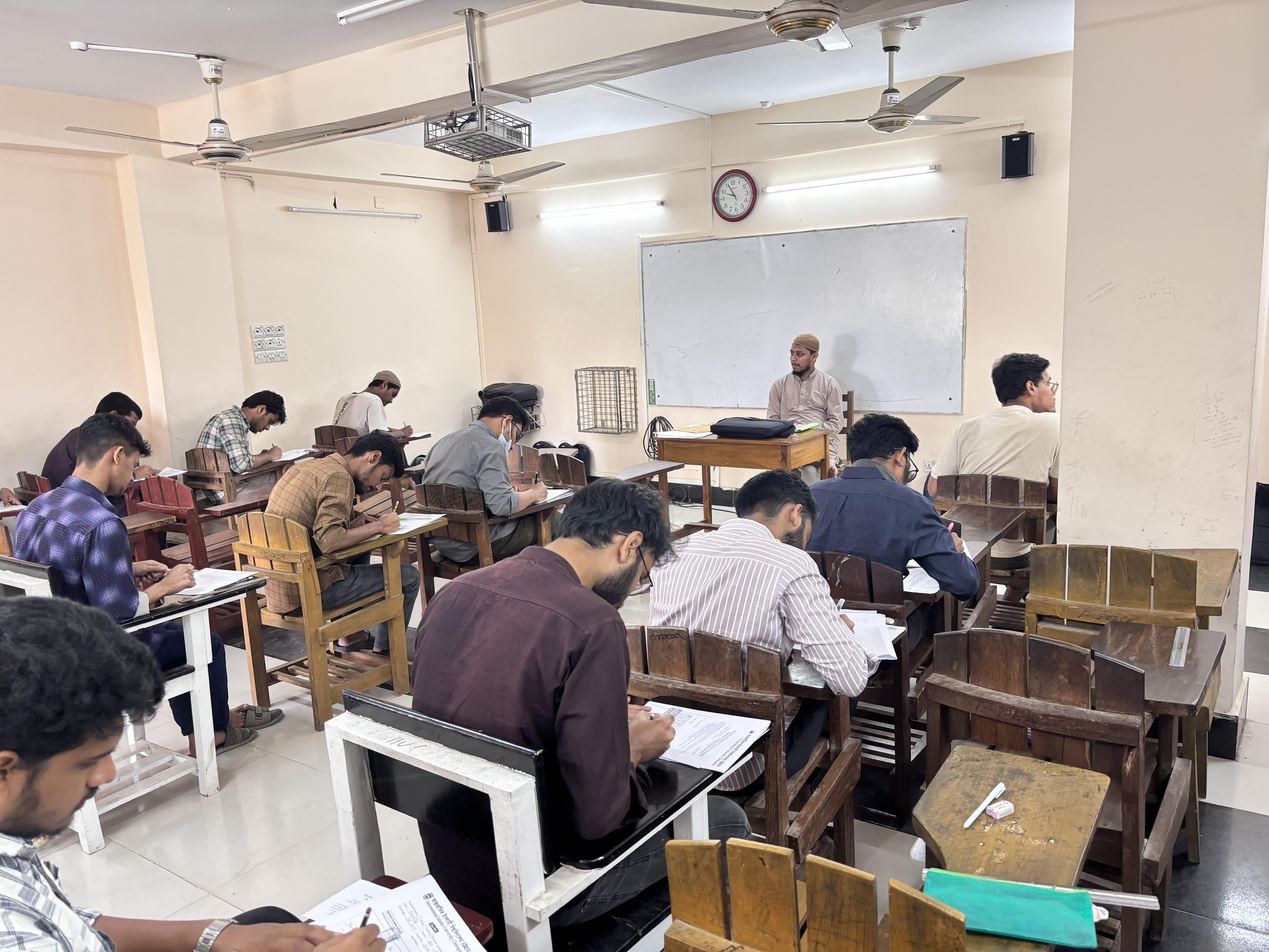invigilator: (762, 320, 855, 461)
no_cheating: (0, 583, 502, 952), (494, 468, 751, 858), (660, 463, 896, 712), (53, 411, 241, 621), (814, 407, 978, 620), (430, 394, 587, 553), (298, 430, 438, 584), (203, 379, 299, 490), (329, 366, 432, 457)
suspicious_moving: (950, 343, 1084, 508)
